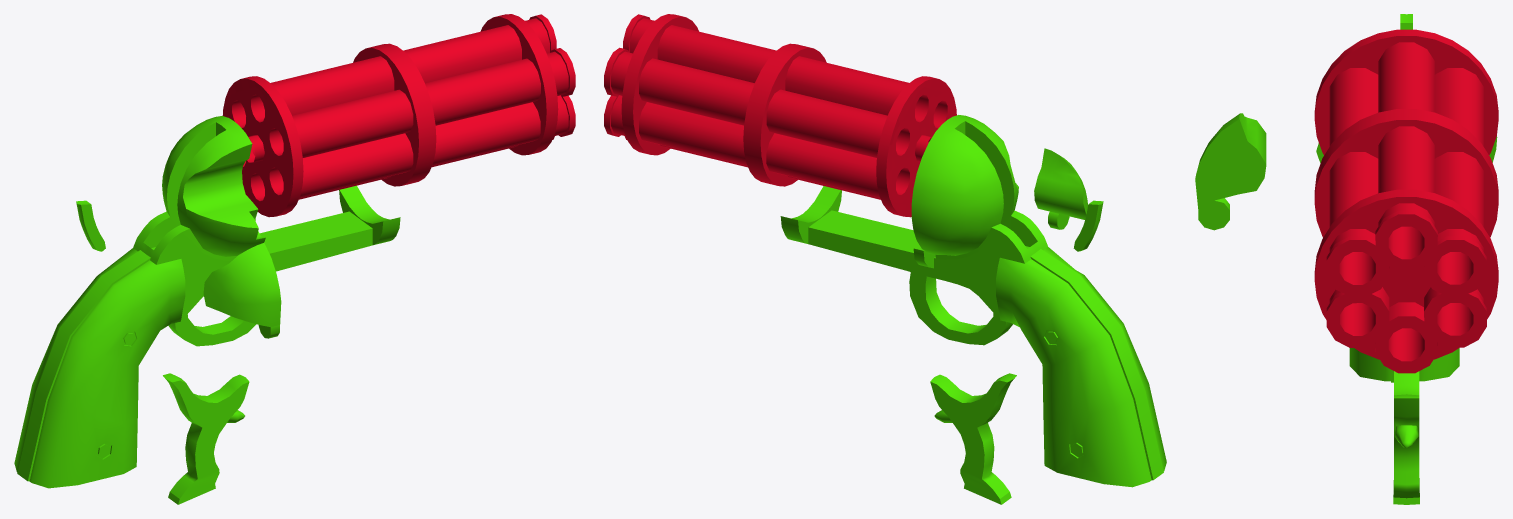
The model's file is Substance.fbx.
The picture shows the model from 3 angles, left to right: view 1: azimuth 30°, elevation 25°; view 2: azimuth 150°, elevation 25°; view 3: azimuth 270°, elevation 25°; orthographic projection. The views are drawn at different scales.
Parts seen in each view (by area): view 1: Body, Barrel, Hammer, Cover, Trigger; view 2: Body, Barrel, Hammer, Cover, Trigger; view 3: Barrel, Cover, Hammer, Body.
Boxes of the visible parts, box(x1,y1,x2,y2) form: Body: box(14, 116, 400, 488); Barrel: box(222, 14, 575, 217); Hammer: box(163, 373, 249, 504); Cover: box(203, 243, 281, 338); Trigger: box(76, 200, 105, 251); Body: box(780, 115, 1166, 487); Barrel: box(604, 14, 956, 217); Hammer: box(930, 373, 1016, 504); Cover: box(1034, 148, 1087, 229); Trigger: box(1073, 200, 1103, 251); Barrel: box(1314, 29, 1498, 373); Cover: box(1195, 113, 1266, 230); Hammer: box(1393, 371, 1419, 504); Body: box(1316, 136, 1497, 382).
Bounding box in the file's own units: 7.13 × 5.17 × 2.77.
